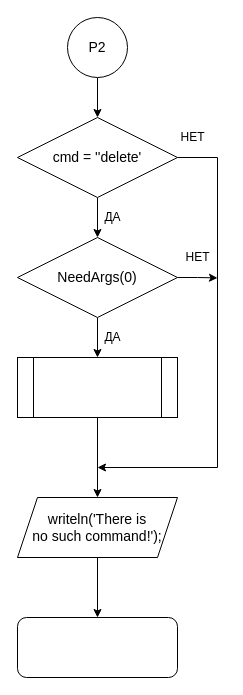
This 243x695 diagram has some shape labels left out. The shapes that lost their labels are listed below. From the top down, each one's centre as x and y in pixels, then its label:
point 97,387: pop;
point 97,647: КОНЕЦ Action
